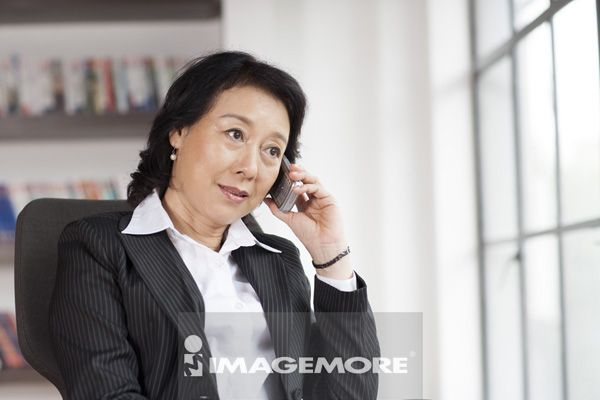talk: (196, 110, 338, 256)
